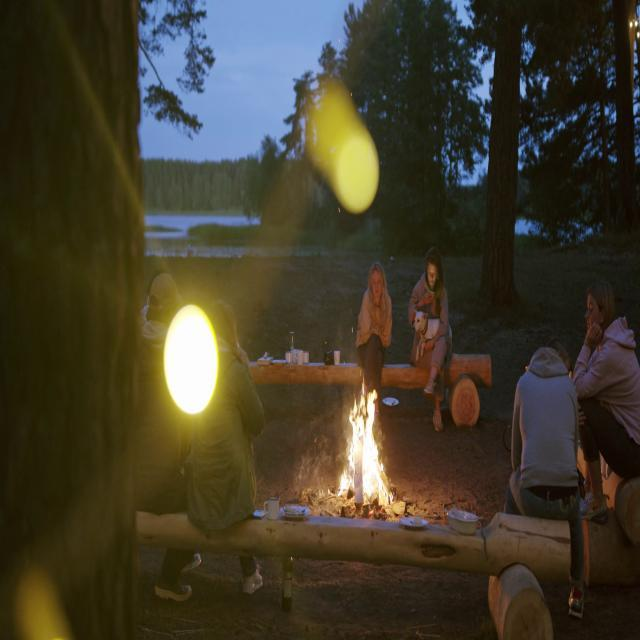Fire: (336, 380, 398, 520)
